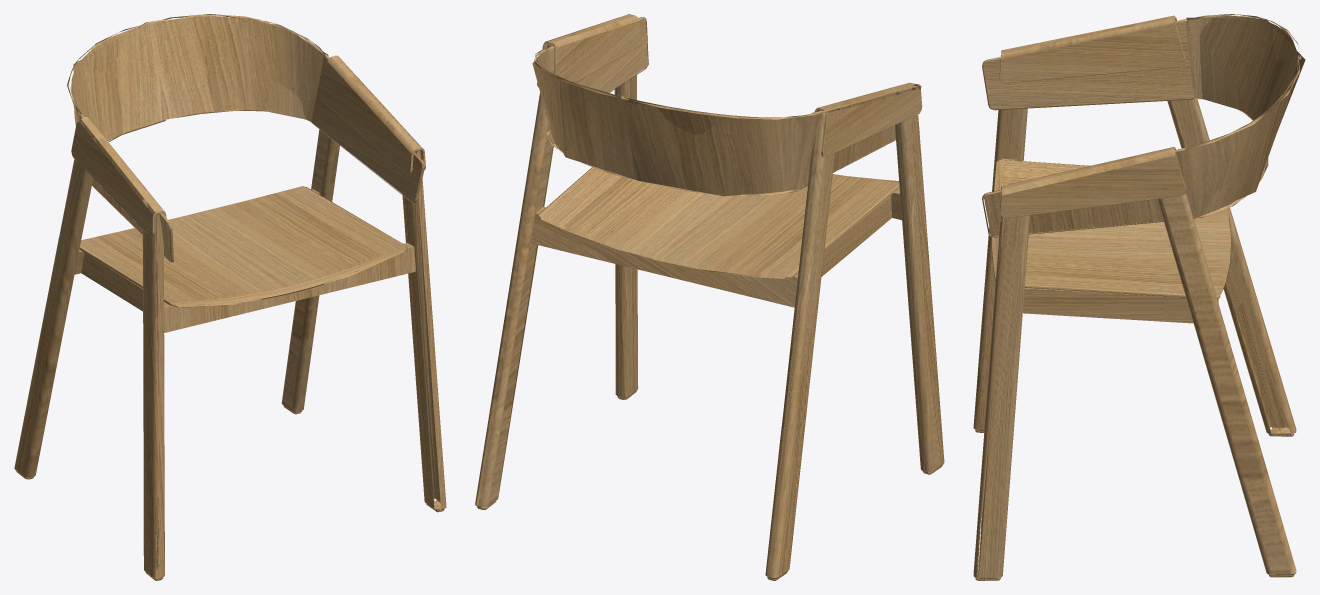
Rendered from chair.gltf.
3 views of the same model, side by side, from view 1: azimuth 30°, elevation 25°; view 2: azimuth 150°, elevation 25°; view 3: azimuth 270°, elevation 25° (orthographic). The views are drawn at different scales.
Parts seen in each view (by area): view 1: Mesh_6.001, Mesh_3.001, Mesh_12.001, Mesh_11.001, Mesh_5.001, Mesh_8.001, Mesh_14.001, Mesh_4.001, Mesh_2.001, Mesh_20, Mesh_18, Mesh_21; view 2: Mesh_6.001, Mesh_3.001, Mesh_14.001, Mesh_5.001, Mesh_11.001, Mesh_8.001, Mesh_4.001, Mesh_9.001, Mesh_18, Mesh_12.001; view 3: Mesh_3.001, Mesh_7.001, Mesh_6.001, Mesh_14.001, Mesh_5.001, Mesh_11.001, Mesh_4.001, Mesh_15.001, Mesh_2.001, Mesh_12.001, Mesh_19.
Part boxes in pixels (box(x1,y1,x2,y2)): Mesh_6.001: box(78, 56, 437, 506); Mesh_3.001: box(15, 21, 446, 580); Mesh_12.001: box(151, 16, 324, 211); Mesh_11.001: box(71, 23, 434, 578); Mesh_5.001: box(14, 22, 443, 578); Mesh_8.001: box(34, 22, 425, 476); Mesh_14.001: box(73, 16, 328, 410); Mesh_4.001: box(16, 21, 442, 580); Mesh_2.001: box(155, 153, 442, 577); Mesh_20: box(108, 121, 406, 291); Mesh_18: box(67, 14, 323, 142); Mesh_21: box(81, 54, 328, 305); Mesh_6.001: box(539, 18, 920, 276); Mesh_3.001: box(478, 14, 943, 579); Mesh_14.001: box(488, 52, 819, 505); Mesh_5.001: box(478, 44, 944, 578); Mesh_11.001: box(475, 16, 913, 578); Mesh_8.001: box(556, 14, 922, 469); Mesh_4.001: box(475, 17, 942, 580); Mesh_9.001: box(539, 192, 931, 472); Mesh_18: box(535, 49, 814, 195); Mesh_12.001: box(537, 49, 792, 278); Mesh_3.001: box(973, 15, 1300, 580); Mesh_7.001: box(975, 21, 1293, 580); Mesh_6.001: box(980, 18, 1230, 542); Mesh_14.001: box(1172, 17, 1305, 432); Mesh_5.001: box(973, 15, 1300, 578); Mesh_11.001: box(977, 16, 1297, 574); Mesh_4.001: box(975, 18, 1301, 580); Mesh_15.001: box(1002, 99, 1266, 217); Mesh_2.001: box(976, 217, 1004, 574); Mesh_12.001: box(1001, 55, 1296, 298); Mesh_19: box(1188, 63, 1299, 217).
Size of the model in its own units: 56.2 by 76.07 by 51.18.
Materials: 1 (1 with a texture image).
